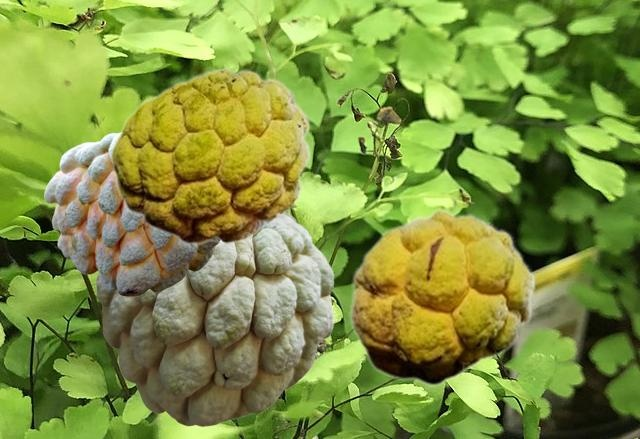atis: (95, 213, 333, 425), (109, 67, 310, 244), (348, 208, 535, 385), (44, 132, 217, 295)
